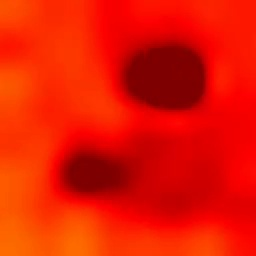person: (67, 143, 210, 208)
